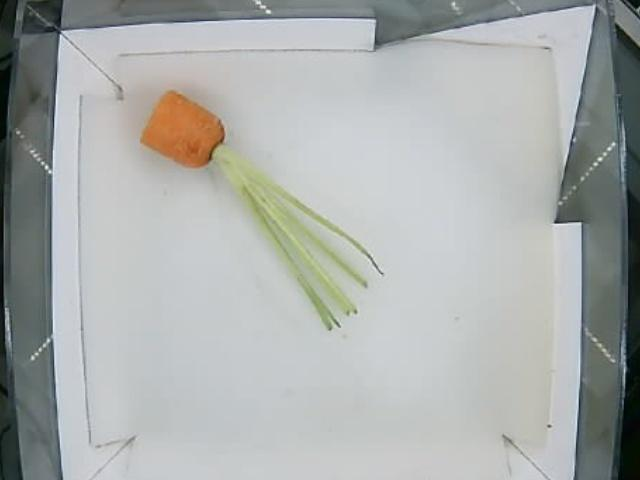Carrot: (139, 88, 277, 207)
